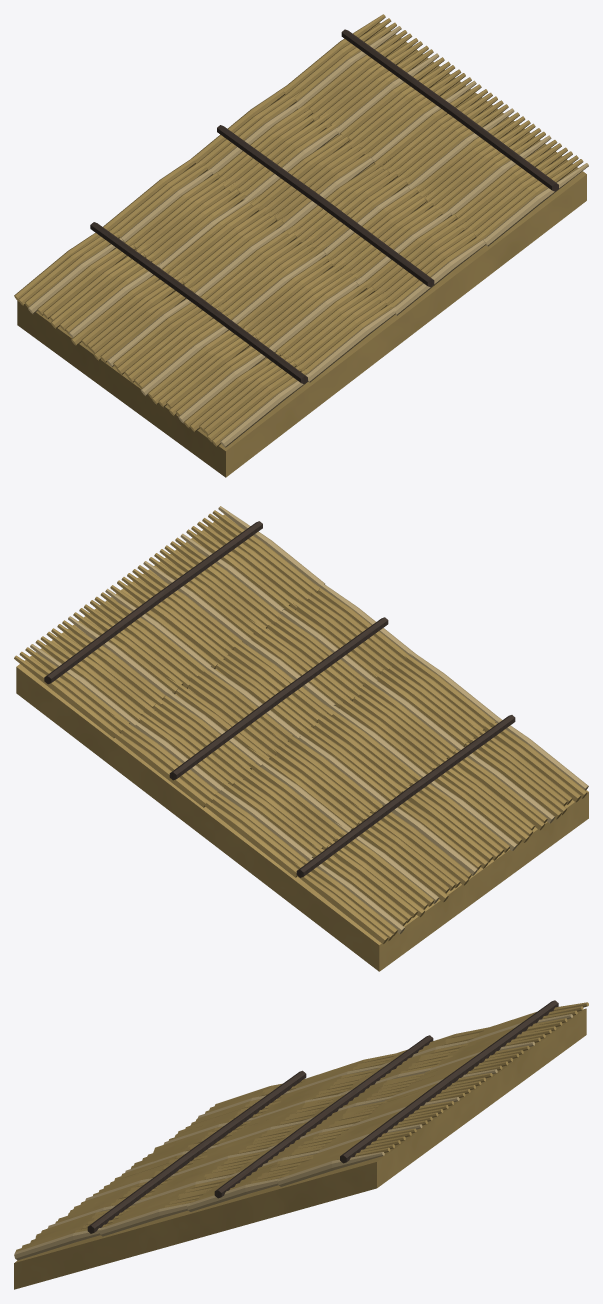
Rendered from AR_Roof_Thatch_2m.glb.
The picture shows the model from 3 angles, top to bottom: view 1: azimuth 30°, elevation 25°; view 2: azimuth 150°, elevation 25°; view 3: azimuth 330°, elevation 25°; orthographic projection.
Visible parts, largest first — view 1: AR_Roof_Thatch_2m; view 2: AR_Roof_Thatch_2m; view 3: AR_Roof_Thatch_2m.
Boxes of the visible parts, box(x1,y1,x2,y2) form: AR_Roof_Thatch_2m: box(14, 14, 588, 477); AR_Roof_Thatch_2m: box(14, 506, 588, 971); AR_Roof_Thatch_2m: box(14, 1000, 588, 1289).
Bounding box in the file's own units: 2.06 × 1.19 × 2.02.
Materials: 3 (2 with a texture image).
